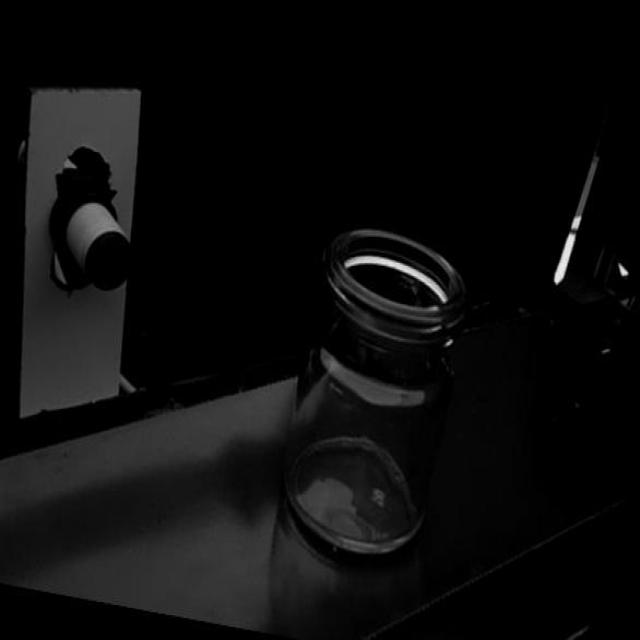defect: (444, 335, 454, 349)
glass: (279, 216, 477, 576)
